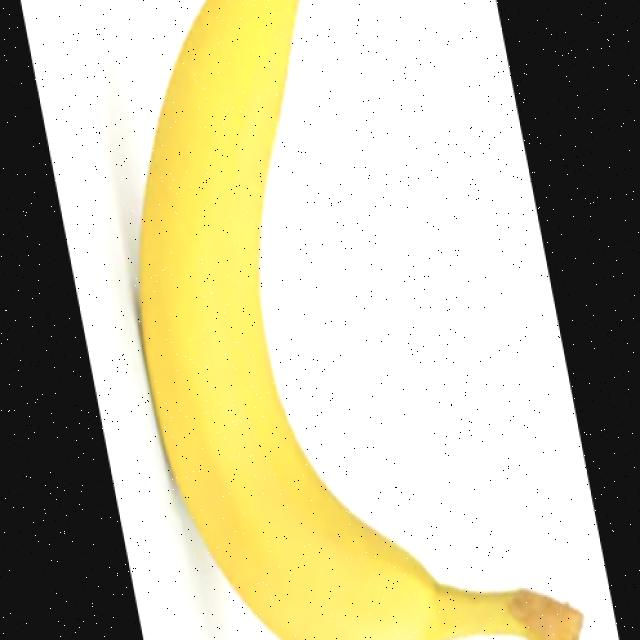god quality banana: (139, 2, 579, 638)
